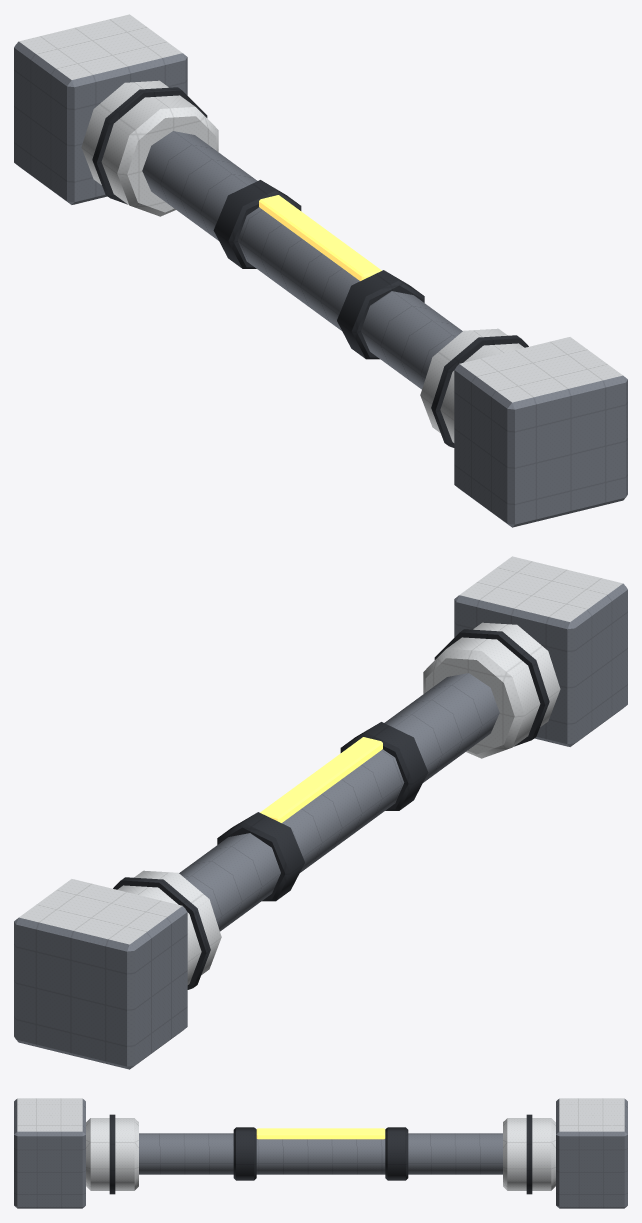
Rendered from R4C_ROD_STANDARD_LOD1.glb.
3 views of the same model, one above another, from view 1: azimuth 30°, elevation 25°; view 2: azimuth 150°, elevation 25°; view 3: azimuth 270°, elevation 25° (orthographic). The views are drawn at different scales.
Parts seen in each view (by area): view 1: R4C_ROD_STANDARD_LOD1; view 2: R4C_ROD_STANDARD_LOD1; view 3: R4C_ROD_STANDARD_LOD1.
Boxes of the visible parts, x1=… form: R4C_ROD_STANDARD_LOD1: x1=14, y1=14, x2=627, y2=527; R4C_ROD_STANDARD_LOD1: x1=14, y1=556, x2=627, y2=1069; R4C_ROD_STANDARD_LOD1: x1=14, y1=1098, x2=627, y2=1208.
Bounding box in the file's own units: 0.226 × 0.224 × 1.62.
Materials: 4 (3 with a texture image).
